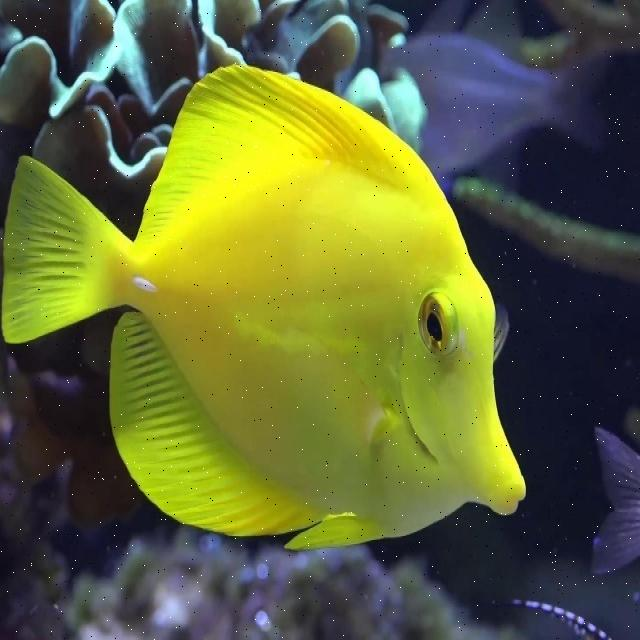fish: (2, 64, 526, 551)
